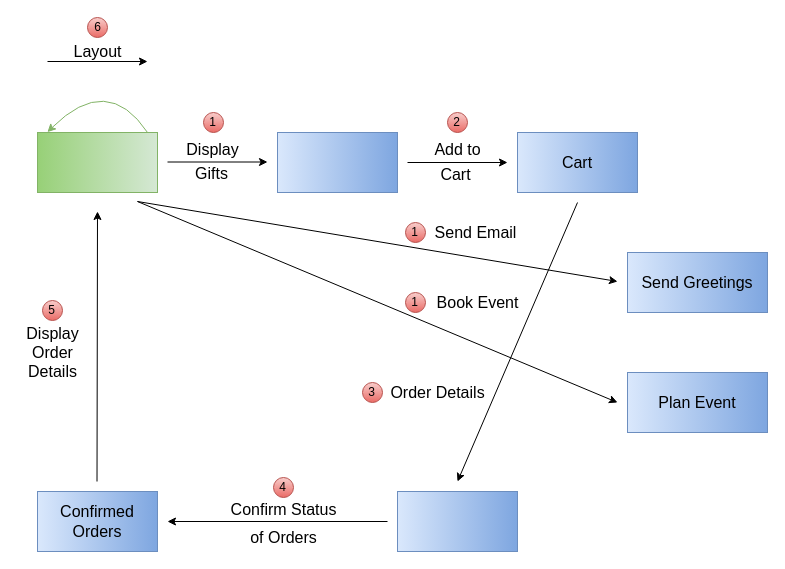
Some shapes in this 785 by 569 pixel diagram are drawn without their labels. Here are the shapes that lost their labels. From the top down, the centre of each, then its label:
(97,162): Customer
(337,162): View Items
(457,521): Process Order
